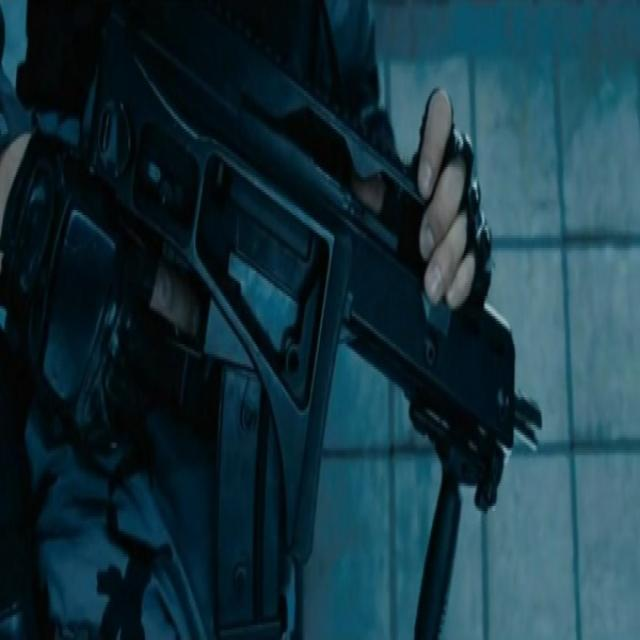rifle: (13, 20, 546, 640)
